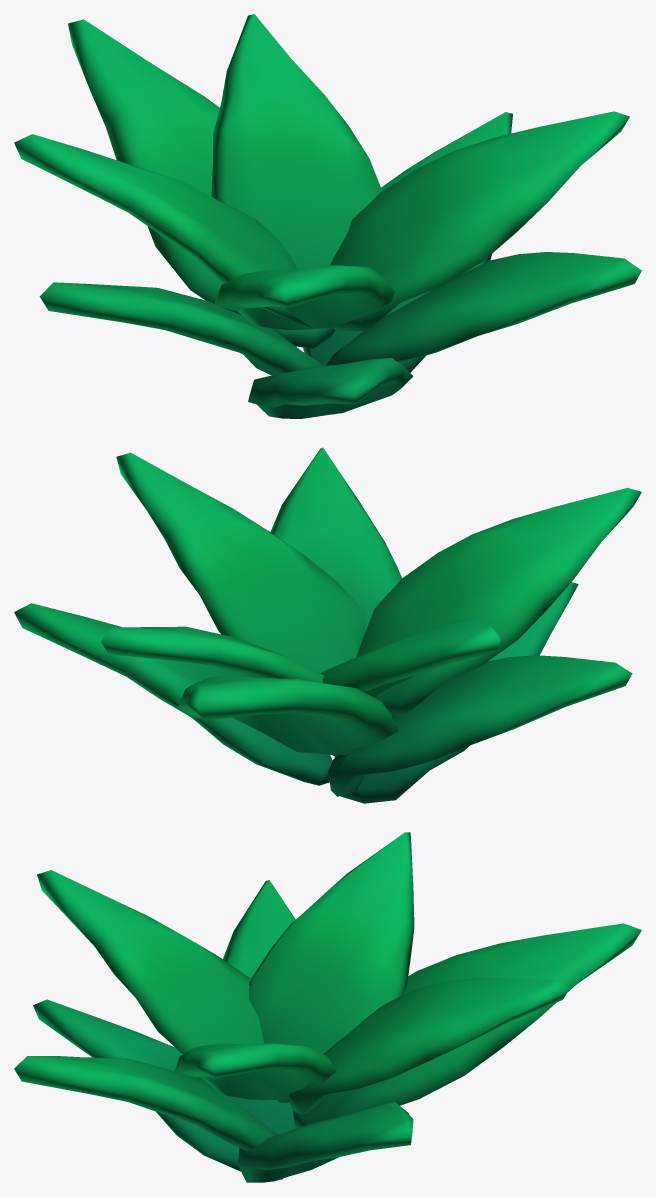
Rendered from Plant_007.glb.
3 renders of one model, top to bottom at view 1: azimuth 30°, elevation 25°; view 2: azimuth 150°, elevation 25°; view 3: azimuth 270°, elevation 25°, orthographic. The views are drawn at different scales.
Parts seen in each view (by area): view 1: Plant_007; view 2: Plant_007; view 3: Plant_007.
Part boxes in pixels (x1=…): Plant_007: x1=14, y1=14, x2=641, y2=418; Plant_007: x1=14, y1=447, x2=641, y2=803; Plant_007: x1=14, y1=832, x2=641, y2=1182.
Size of the model in its own units: 0.3259 by 0.155 by 0.3524.
Materials: 1 (1 with a texture image).
